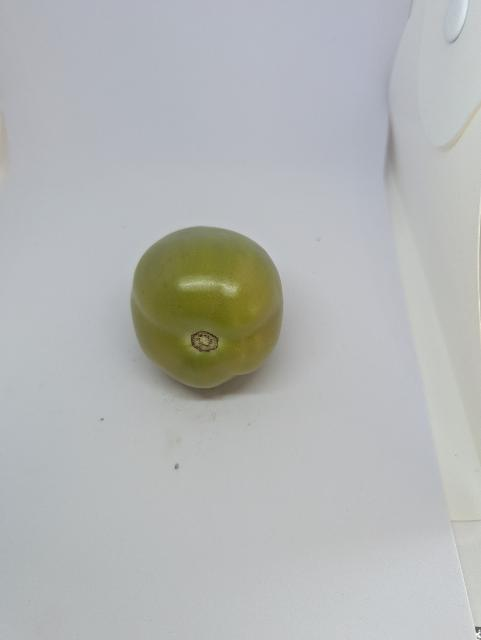green: (118, 207, 297, 411)
